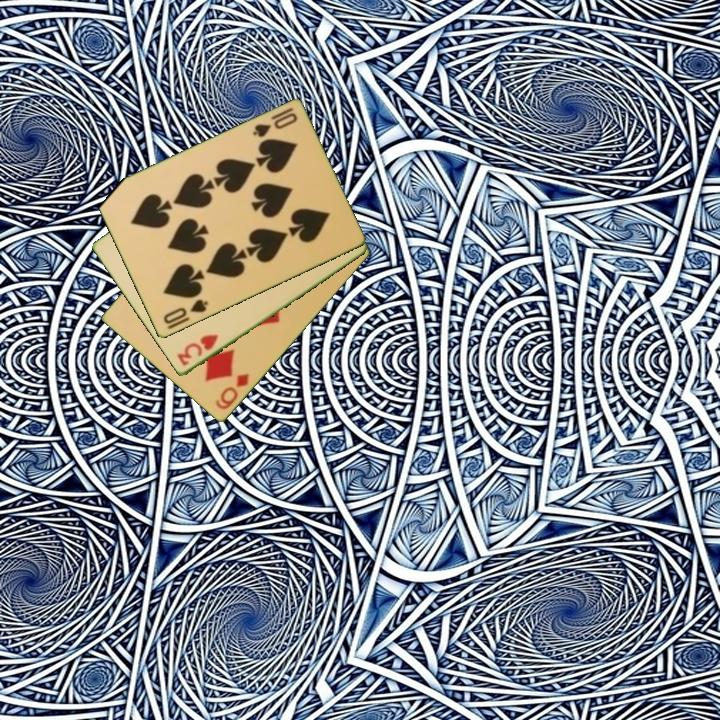10s: (249, 105, 300, 141), (160, 296, 211, 327)
3h: (173, 331, 221, 369)
6d: (212, 370, 252, 413)
